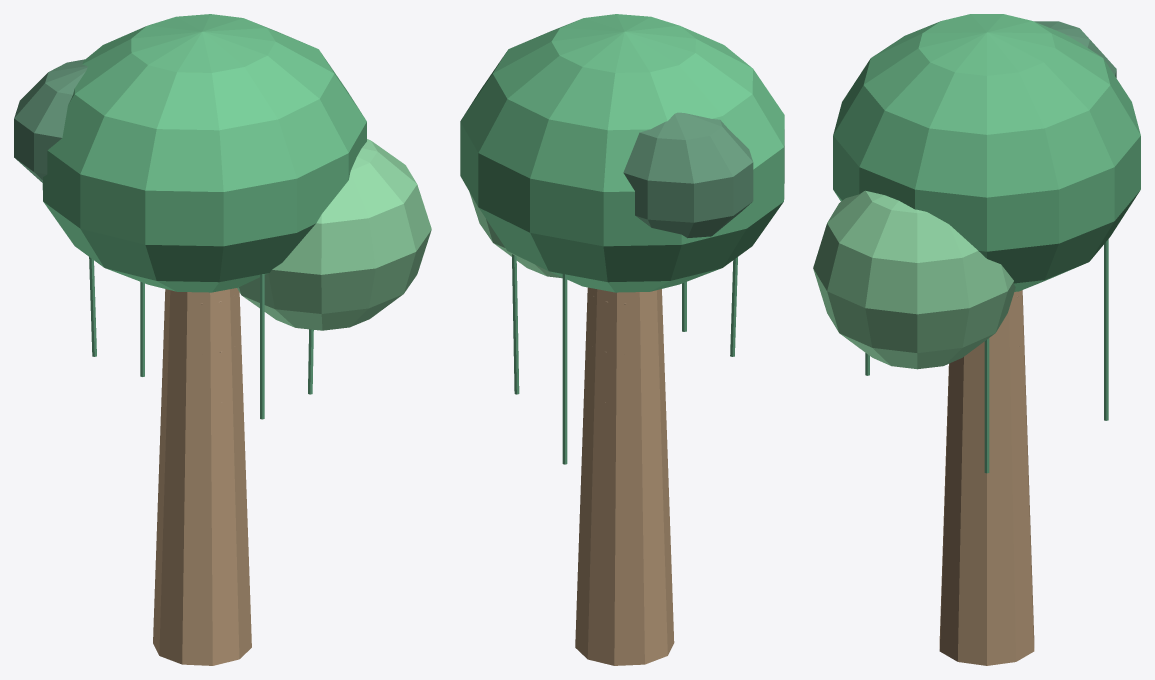
Rendered from arbol_selva.glb.
3 renders of one model, left to right at view 1: azimuth 30°, elevation 25°; view 2: azimuth 150°, elevation 25°; view 3: azimuth 270°, elevation 25°, orthographic.
Parts seen in each view (by area): view 1: arbol_selva; view 2: arbol_selva; view 3: arbol_selva.
Boxes of the visible parts, x1,y1,x2,y2 form: arbol_selva: (14, 14, 431, 665); arbol_selva: (460, 14, 784, 665); arbol_selva: (813, 14, 1140, 665).
Bounding box in the file's own units: 7.64 × 13.6 × 6.6.
